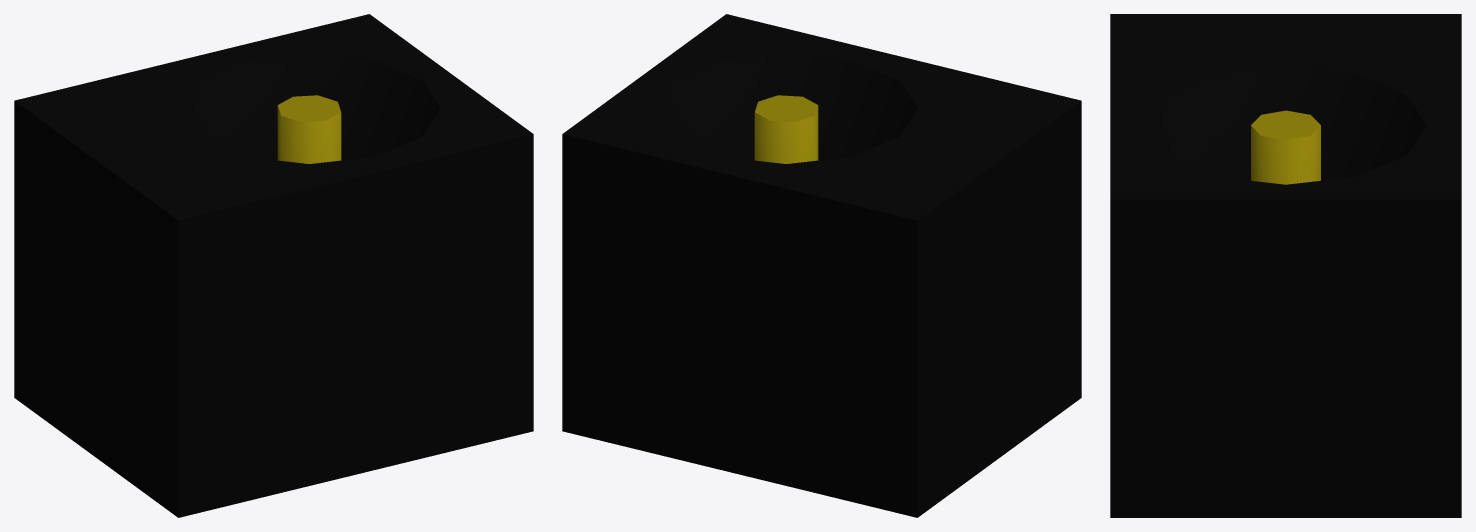
File: power_plug.glb
3 views of the same model, side by side, from view 1: azimuth 30°, elevation 25°; view 2: azimuth 150°, elevation 25°; view 3: azimuth 270°, elevation 25° (orthographic). The views are drawn at different scales.
Visible parts, largest first — view 1: PowerSlot; view 2: PowerSlot; view 3: PowerSlot.
Part boxes in pixels (x1,y1,x2,y2): PowerSlot: (14, 14, 533, 517); PowerSlot: (562, 14, 1081, 517); PowerSlot: (1110, 14, 1461, 517).
Size of the model in its own units: 0.3125 by 0.25 by 0.25.
